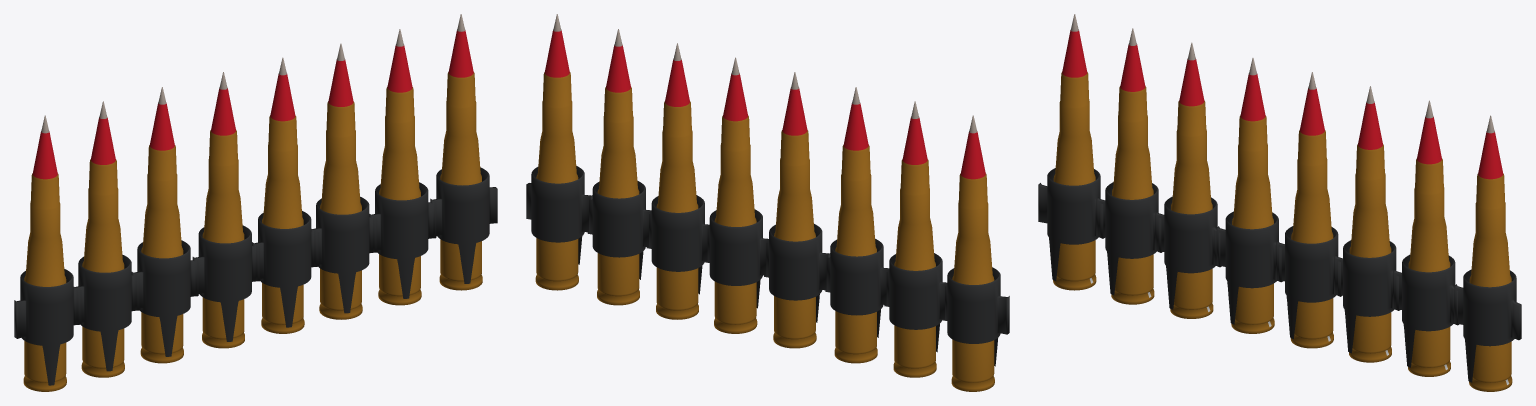
Rendered from mg42 bullet.fbx.
The picture shows the model from 3 angles, left to right: view 1: azimuth 30°, elevation 25°; view 2: azimuth 150°, elevation 25°; view 3: azimuth 330°, elevation 25°; orthographic projection.
Parts seen in each view (by area): view 1: Cylinder.004, Cylinder.003, Cylinder.007, Cylinder, Cylinder.008, Cylinder.012, Cylinder.011, Cylinder.015, Cylinder.001, Cylinder.009, Cylinder.005, Cylinder.006 (+4 smaller); view 2: Cylinder.008, Cylinder.011, Cylinder.015, Cylinder.012, Cylinder, Cylinder.004, Cylinder.003, Cylinder.007, Cylinder.001, Cylinder.009, Cylinder.006, Cylinder.005 (+4 smaller); view 3: Cylinder.015, Cylinder.012, Cylinder, Cylinder.004, Cylinder.011, Cylinder.008, Cylinder.003, Cylinder.007, Cylinder.009, Cylinder.001, Cylinder.005, Cylinder.010 (+4 smaller).
Part boxes in pixels (x1,y1,x2,y2): Cylinder.004: (140, 87, 183, 363); Cylinder.003: (81, 101, 124, 377); Cylinder.007: (202, 72, 244, 348); Cylinder: (23, 115, 66, 391); Cylinder.008: (439, 14, 482, 290); Cylinder.012: (319, 43, 362, 319); Cylinder.011: (378, 29, 421, 305); Cylinder.015: (261, 57, 304, 333); Cylinder.001: (14, 269, 81, 385); Cylinder.009: (430, 167, 497, 283); Cylinder.005: (131, 240, 198, 356); Cylinder.006: (192, 225, 259, 341); Cylinder.008: (535, 14, 578, 290); Cylinder.011: (597, 29, 639, 305); Cylinder.015: (714, 57, 757, 333); Cylinder.012: (656, 43, 698, 319); Cylinder: (951, 115, 994, 391); Cylinder.004: (834, 87, 877, 363); Cylinder.003: (893, 101, 936, 377); Cylinder.007: (773, 72, 816, 348); Cylinder.001: (942, 267, 1009, 366); Cylinder.009: (526, 166, 592, 264); Cylinder.006: (764, 224, 830, 322); Cylinder.005: (825, 238, 889, 337); Cylinder.015: (1290, 72, 1333, 348); Cylinder.012: (1349, 86, 1391, 362); Cylinder: (1053, 14, 1096, 290); Cylinder.004: (1170, 42, 1213, 318); Cylinder.011: (1408, 100, 1450, 376); Cylinder.008: (1469, 115, 1512, 391); Cylinder.003: (1111, 28, 1154, 304); Cylinder.007: (1231, 58, 1274, 333); Cylinder.009: (1454, 269, 1521, 382); Cylinder.001: (1038, 168, 1104, 280); Cylinder.005: (1155, 196, 1221, 309); Cylinder.010: (1393, 254, 1458, 367).
Bounding box in the file's own units: 275 × 146 × 26.46.
